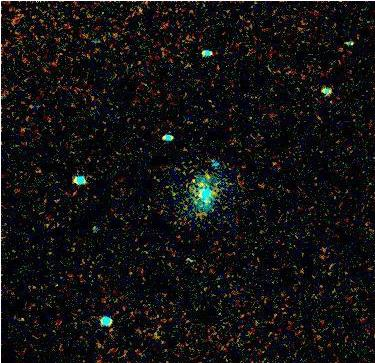star: (178, 164, 208, 194)
